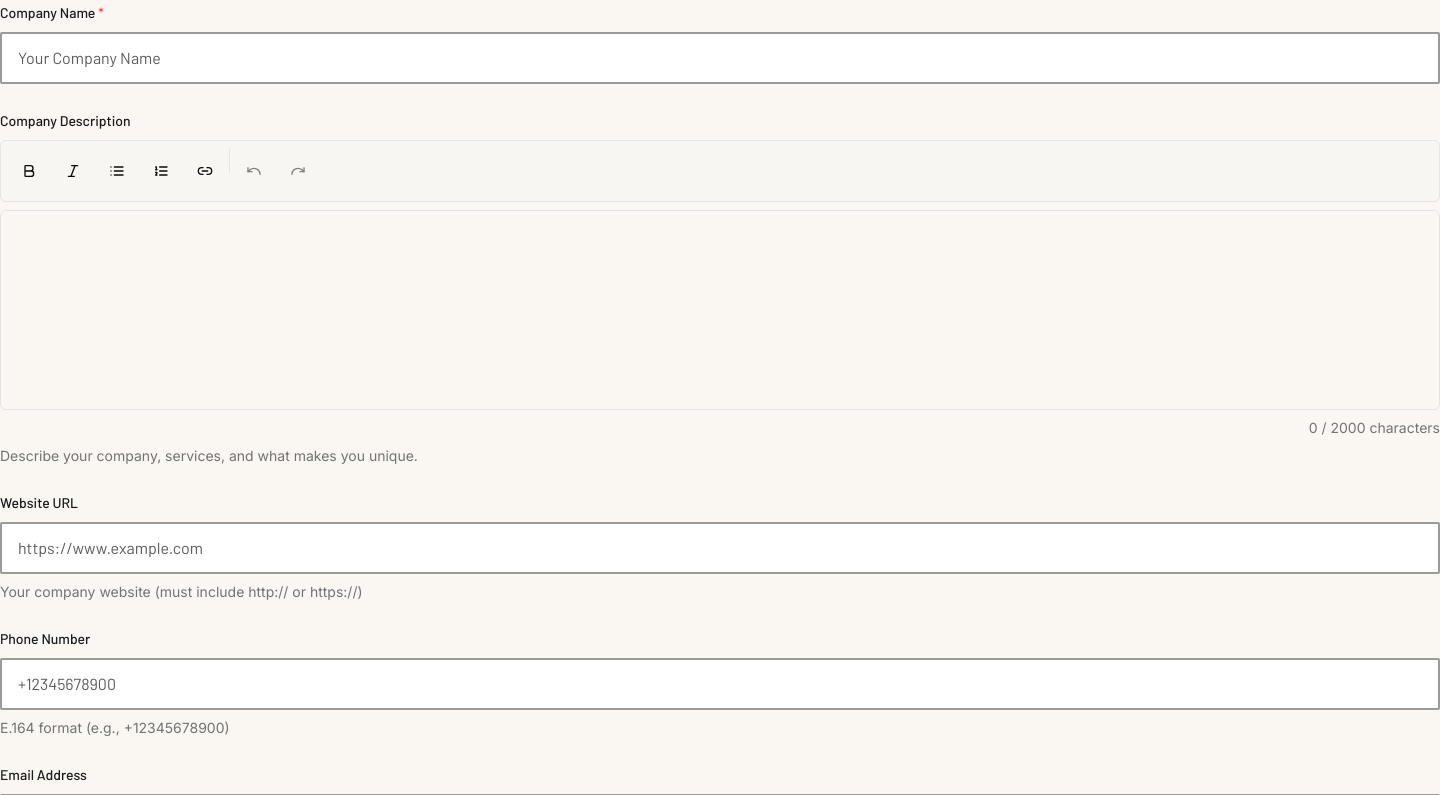
Test: ProfileEditForm › Validation › should validate company name minimum length
In the field labelled "Company Name *": (720, 58) [0,32,1439,84], type "A"
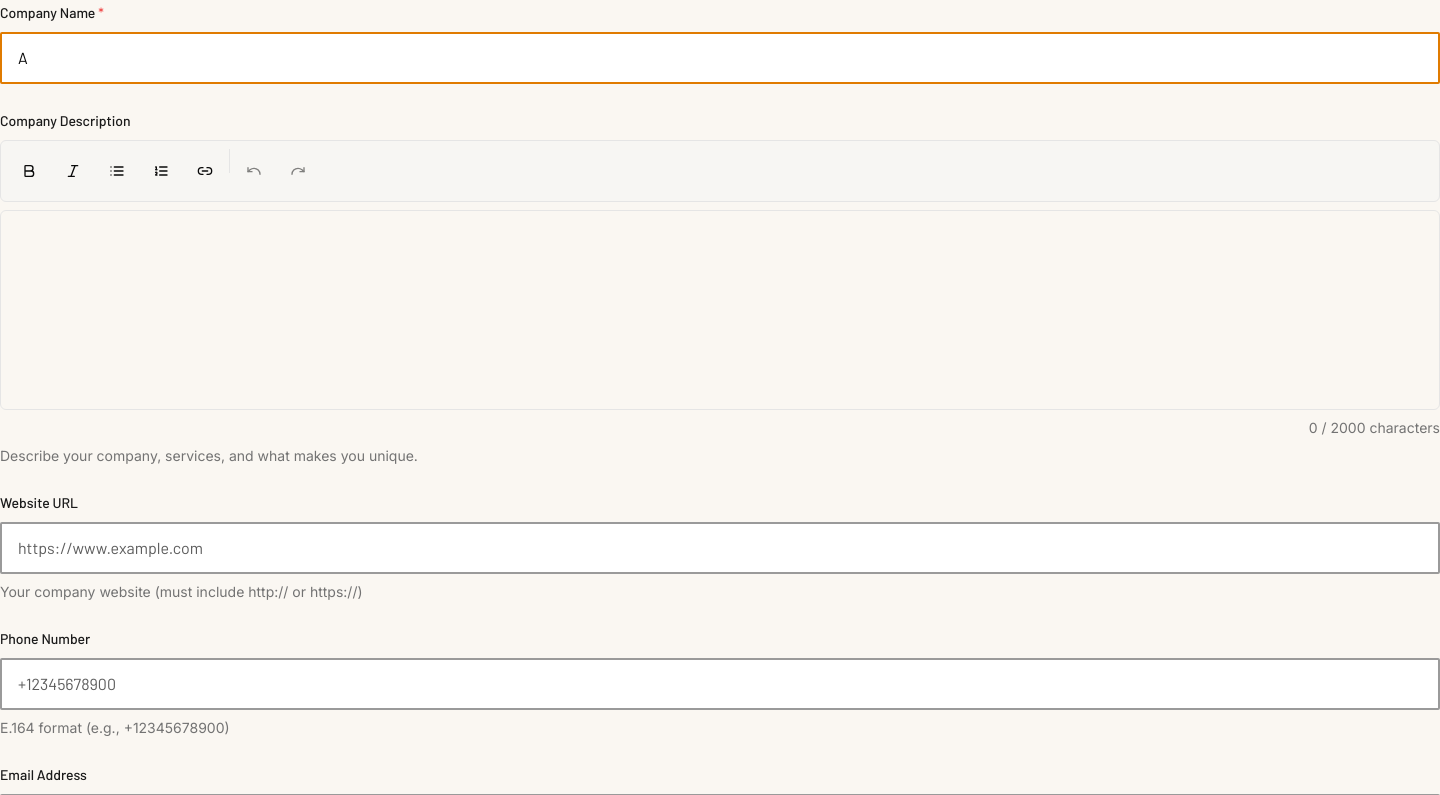
Press Tab
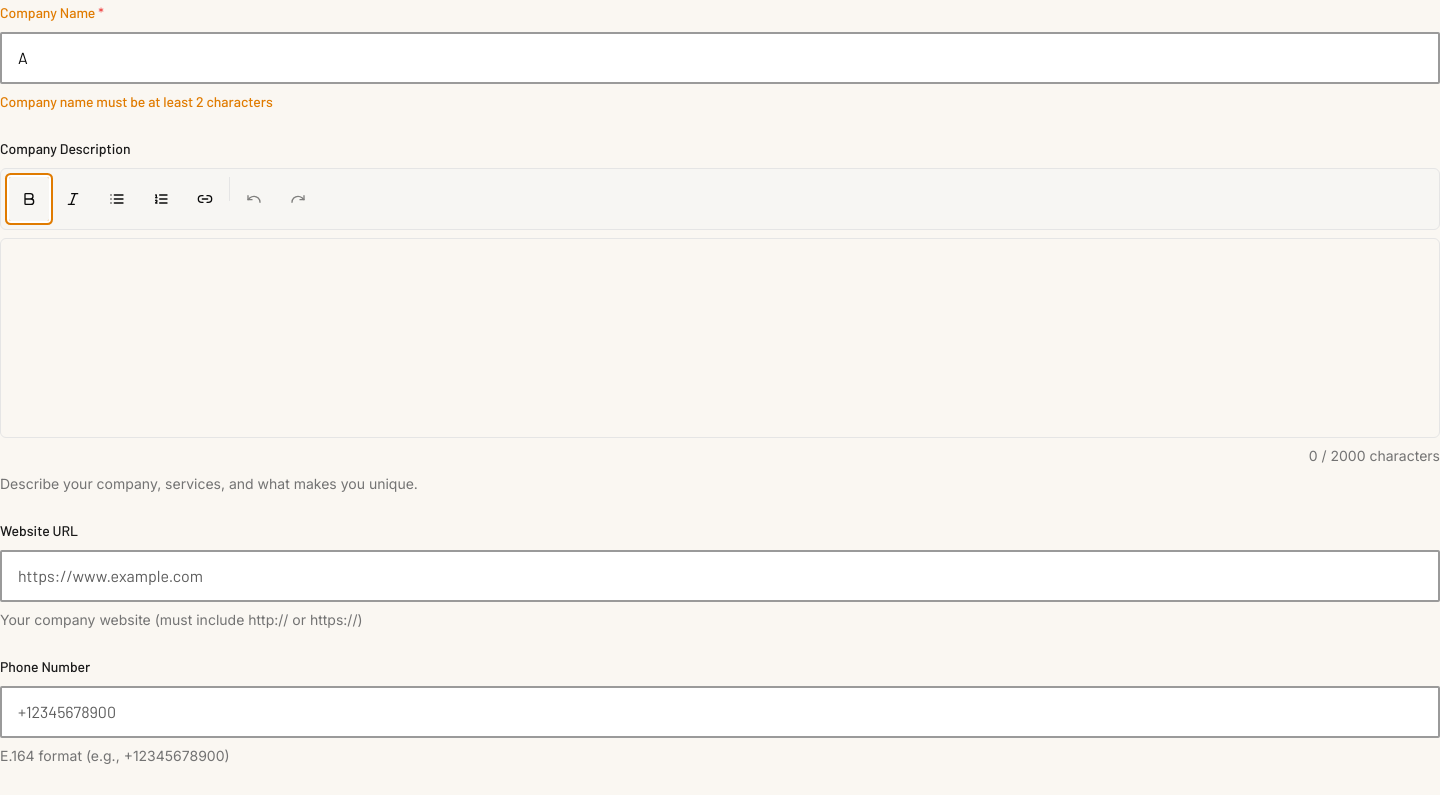
Result: the text "Company name must be at least 2 characters" is shown at [0,93,273,110]
